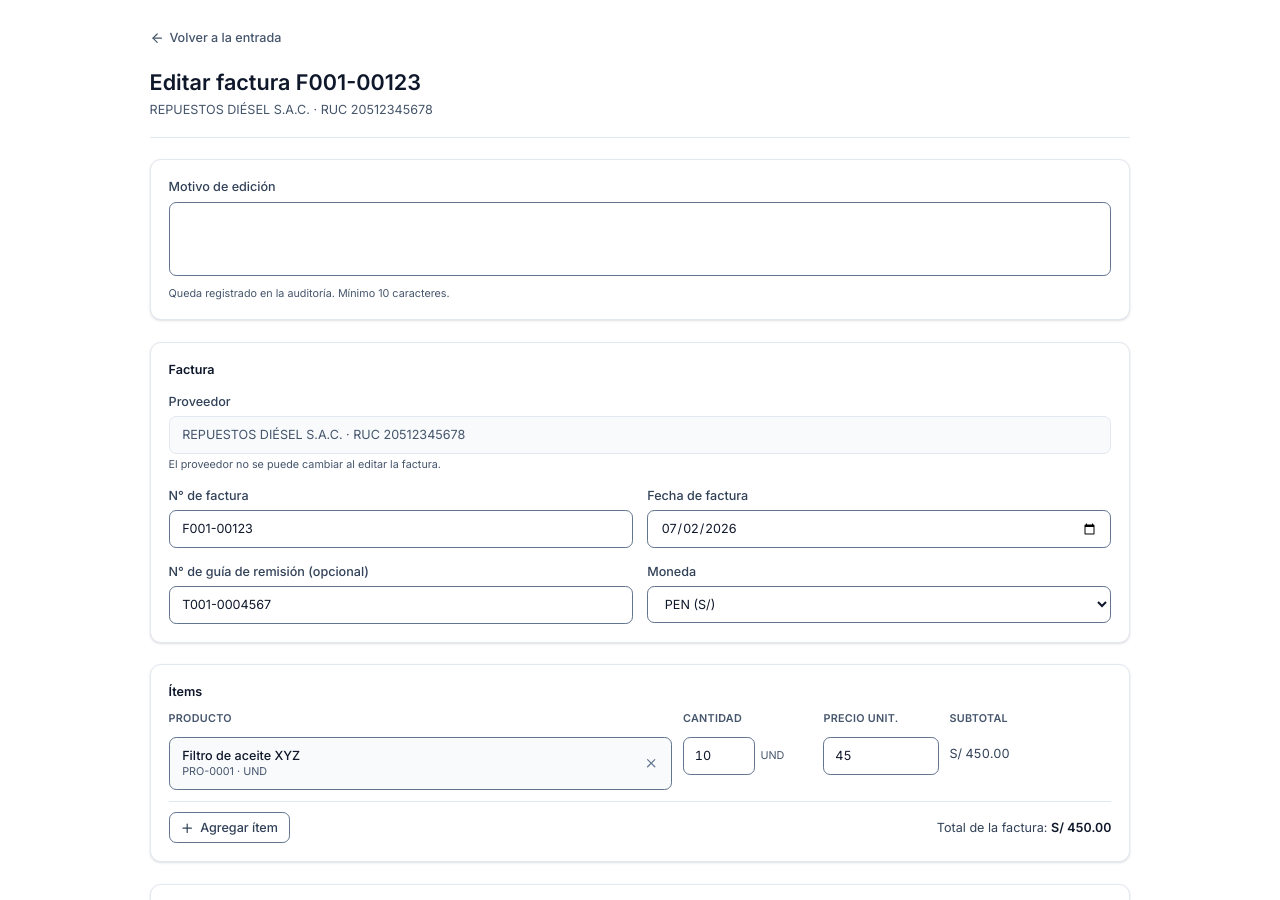
Test: EntryEditPage › cambiar la cantidad recalcula el subtotal y el total en vivo
This screenshot has width=1280, height=900.
Replace the text in the number field named "Cantidad del ítem 1" with "20". click: {"x": 719, "y": 756}
box: [683, 737, 755, 775]
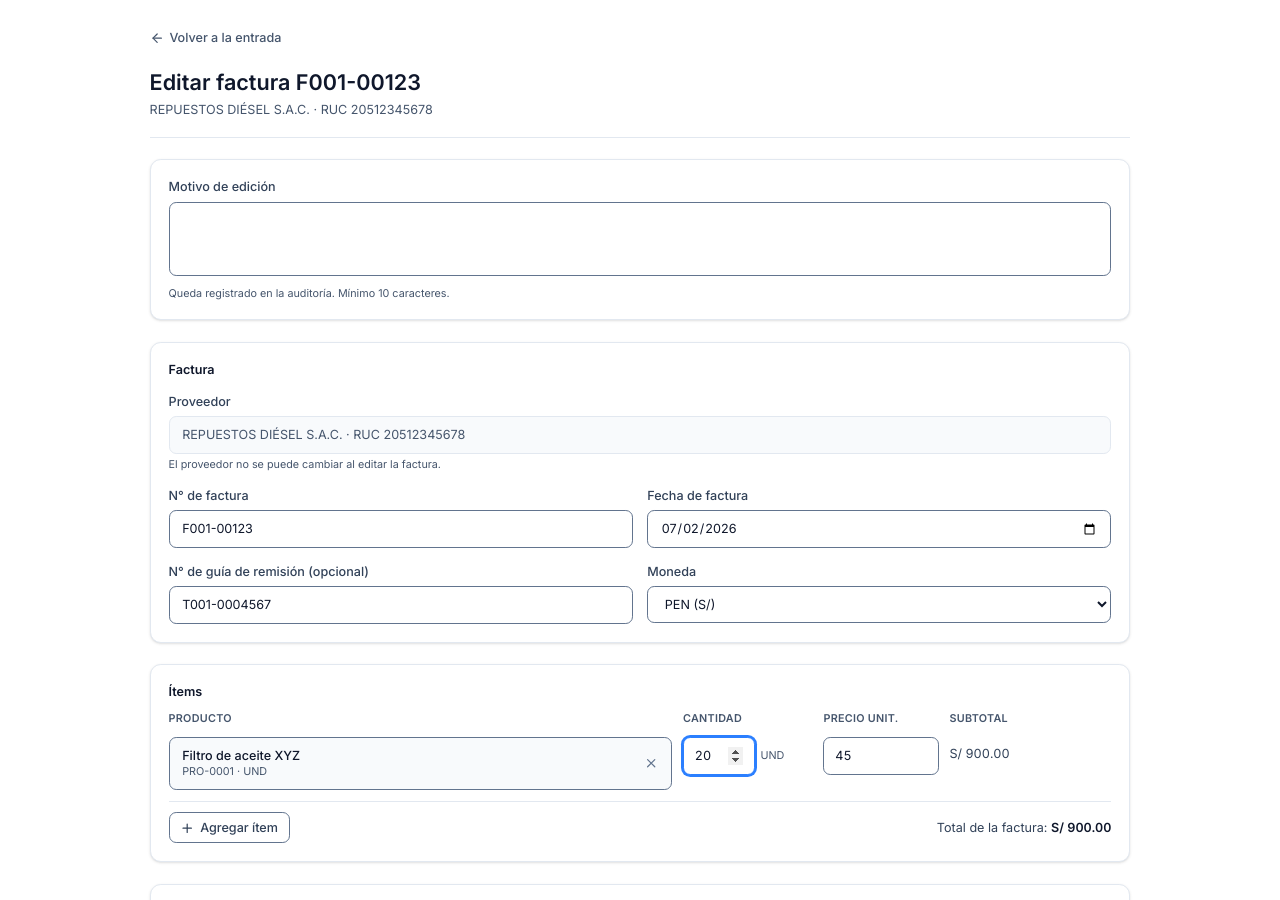
Expected: the text "S/ 900.00" in the row of "Filtro de aceite XYZ" is shown, [949, 746, 1010, 761]
